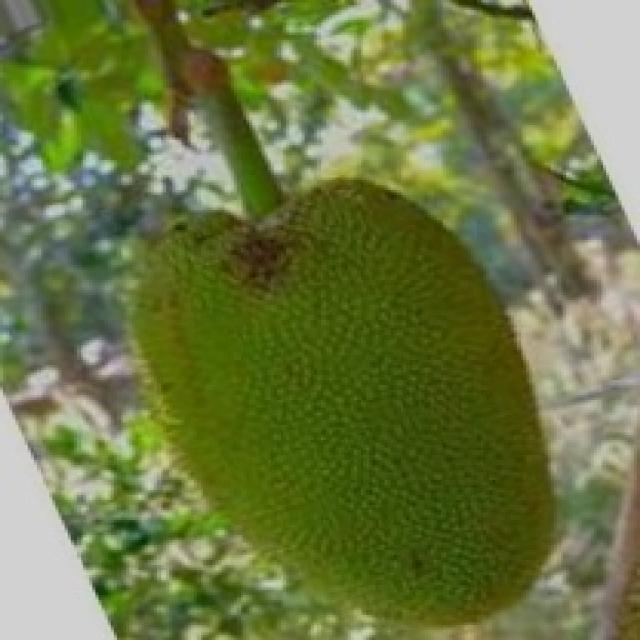Fruit: (240, 230, 597, 640)
